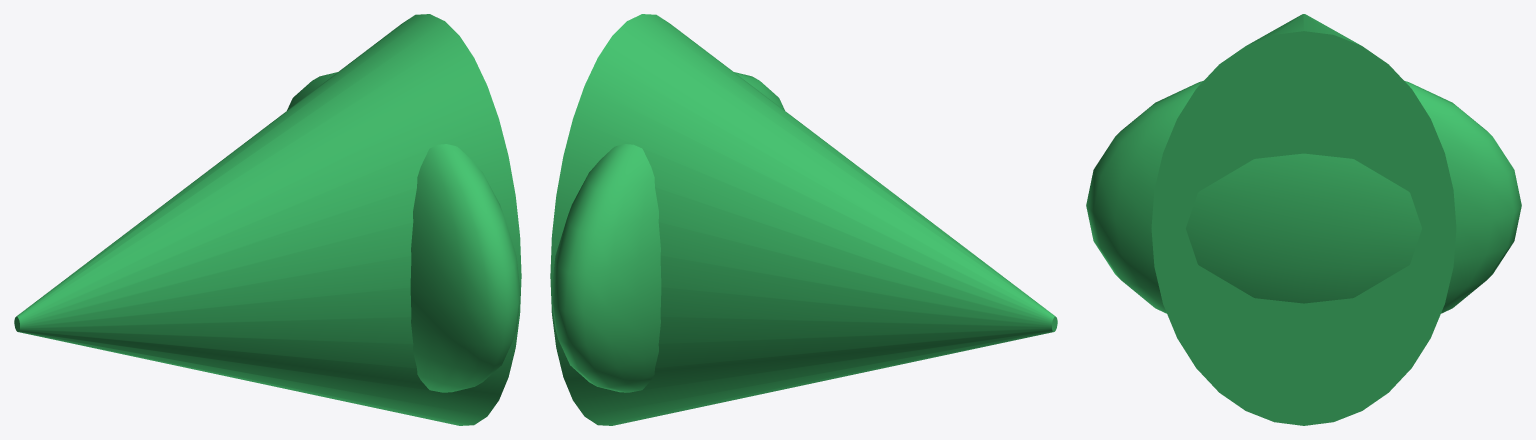
The model's file is ocas.glb.
3 views of the same model, side by side, from view 1: azimuth 30°, elevation 25°; view 2: azimuth 150°, elevation 25°; view 3: azimuth 270°, elevation 25° (orthographic).
Parts seen in each view (by area): view 1: had_ocas_m, had_ocas_spoj; view 2: had_ocas_m, had_ocas_spoj; view 3: had_ocas_m, had_ocas_spoj.
Part boxes in pixels (x1,y1,x2,y2): had_ocas_m: (14,14,521,425); had_ocas_spoj: (287,72,520,392); had_ocas_m: (550,14,1057,425); had_ocas_spoj: (551,72,784,392); had_ocas_m: (1151,14,1456,425); had_ocas_spoj: (1086,81,1521,313).
Size of the model in its own units: 0.92 by 0.8 by 0.8.
